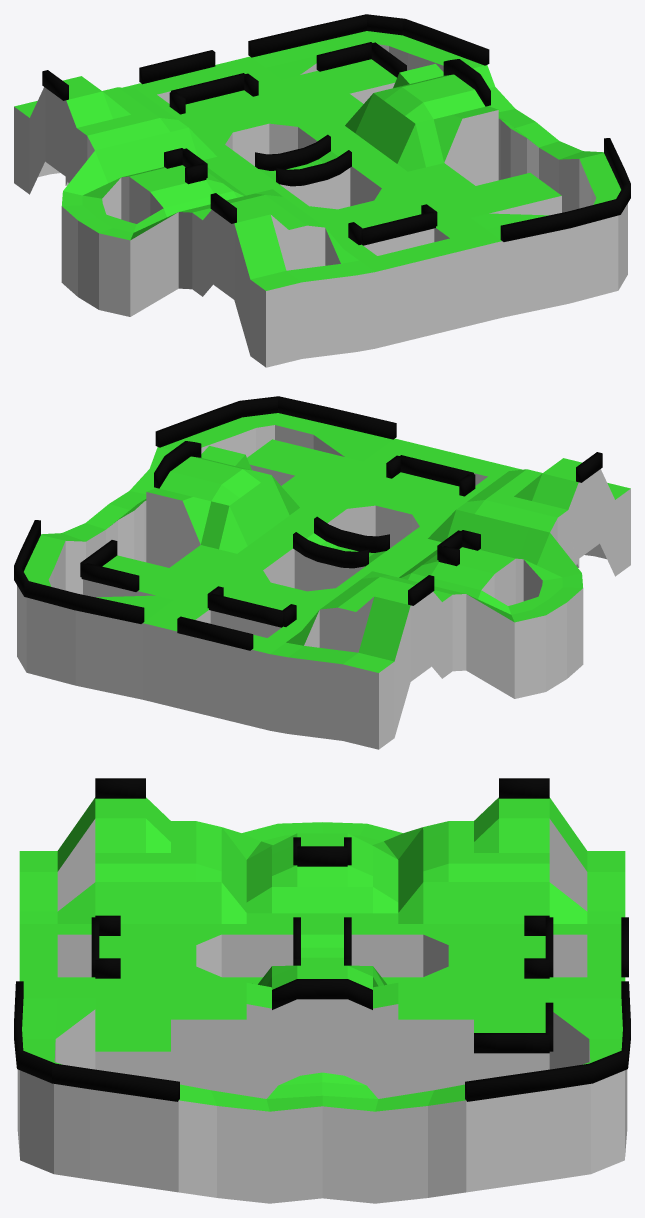
File: groundV2.fbx
The picture shows the model from 3 angles, top to bottom: view 1: azimuth 30°, elevation 25°; view 2: azimuth 150°, elevation 25°; view 3: azimuth 270°, elevation 25°; orthographic projection. The views are drawn at different scales.
Visible parts, largest first — view 1: groundV2; view 2: groundV2; view 3: groundV2.
Part boxes in pixels (x1,y1,x2,y2): groundV2: (14, 14, 630, 367); groundV2: (14, 396, 630, 749); groundV2: (14, 778, 630, 1203).
Size of the model in its own units: 8643 by 2785 by 8152.
